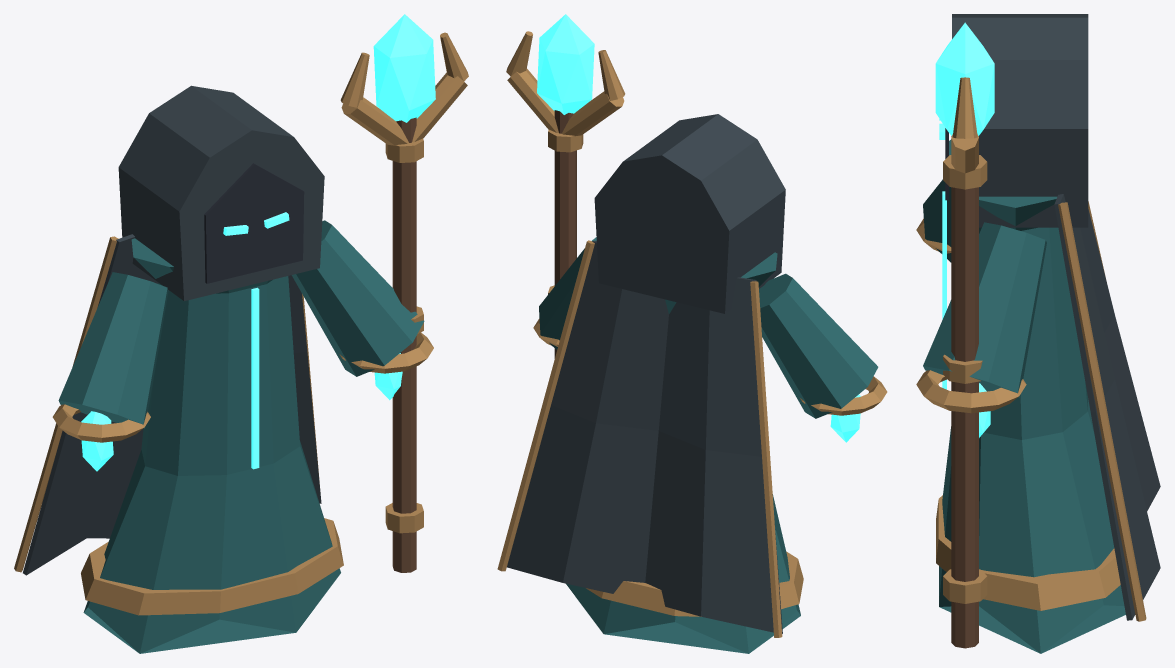
Rendered from wraith.glb.
3 renders of one model, left to right at view 1: azimuth 30°, elevation 25°; view 2: azimuth 150°, elevation 25°; view 3: azimuth 270°, elevation 25°, orthographic. The views are drawn at different scales.
Visible parts, largest first — view 1: wraith_body_mesh, wraith_head_mesh, wraith_weapon_mesh, wraith_cape_mesh, wraith_arm_l_mesh, wraith_arm_r_mesh; view 2: wraith_cape_mesh, wraith_head_mesh, wraith_weapon_mesh, wraith_arm_l_mesh, wraith_body_mesh, wraith_arm_r_mesh; view 3: wraith_body_mesh, wraith_head_mesh, wraith_weapon_mesh, wraith_cape_mesh, wraith_arm_r_mesh, wraith_arm_l_mesh.
Boxes of the visible parts, box(x1,y1,x2,y2) form: wraith_body_mesh: box(81, 238, 343, 653); wraith_head_mesh: box(118, 85, 324, 301); wraith_weapon_mesh: box(340, 14, 468, 572); wraith_cape_mesh: box(14, 234, 321, 575); wraith_arm_l_mesh: box(52, 272, 168, 471); wraith_arm_r_mesh: box(291, 220, 433, 400); wraith_cape_mesh: box(497, 240, 782, 637); wraith_head_mesh: box(594, 114, 785, 313); wraith_weapon_mesh: box(506, 14, 625, 358); wraith_arm_l_mesh: box(759, 273, 887, 442); wraith_body_mesh: box(566, 252, 803, 653); wraith_arm_r_mesh: box(533, 237, 596, 349); wraith_body_mesh: box(936, 139, 1125, 653); wraith_head_mesh: box(939, 14, 1088, 227); wraith_weapon_mesh: box(935, 22, 994, 648); wraith_cape_mesh: box(1054, 194, 1160, 621); wraith_arm_r_mesh: box(916, 222, 1046, 437); wraith_arm_l_mesh: box(916, 179, 951, 262).
Bounding box in the file's own units: 1.66 × 2.27 × 0.775.
